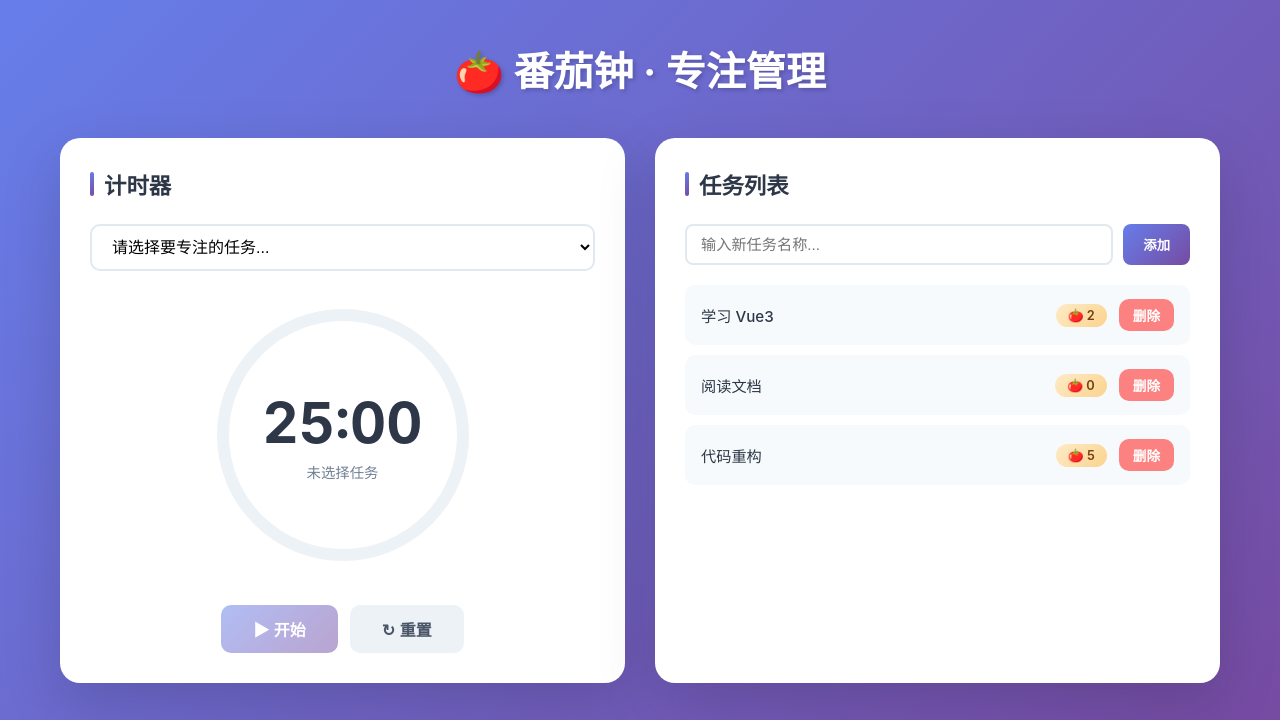
App.vue › 计时器控制 › 点击暂停后按钮文字变为「继续」
Step 1. Select "学习 Vue3（已完成 2 个番茄）" in the dropdown with class "task-select" → (342, 248), box [90, 224, 595, 271]
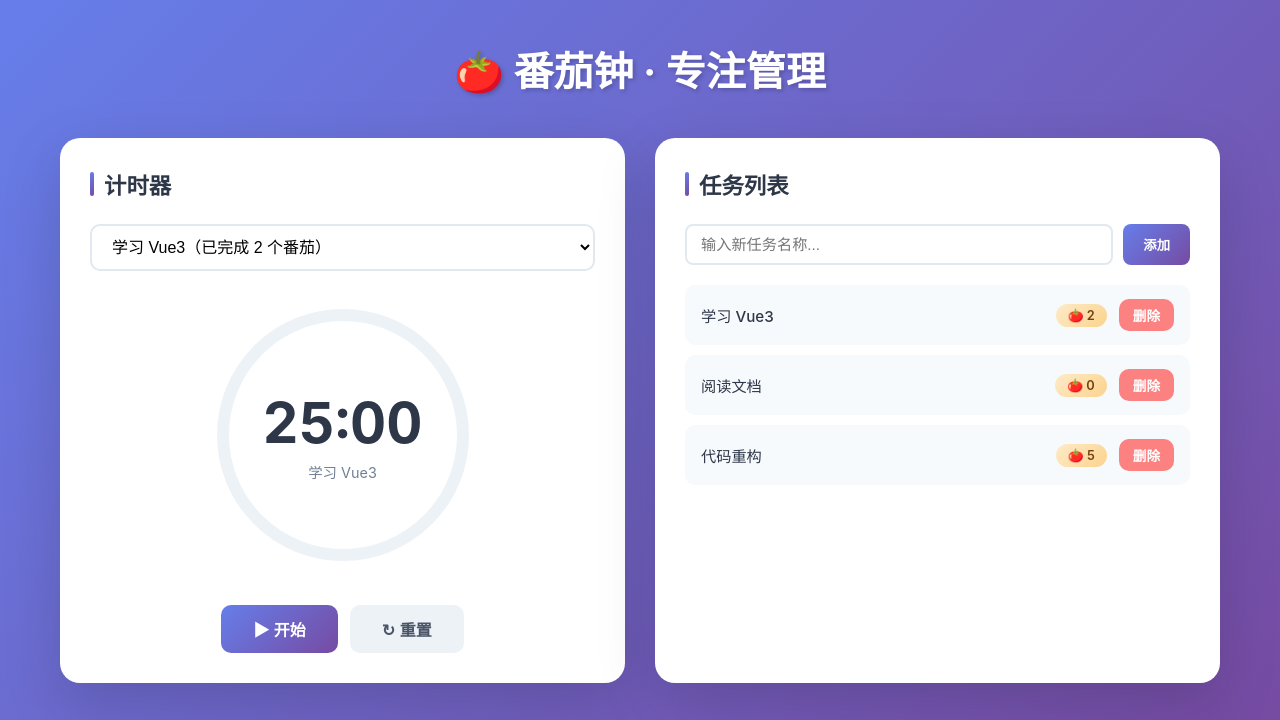
Step 2. Click the button "▶ 开始" → (280, 629), box [221, 605, 338, 653]
Wait 2000 ms
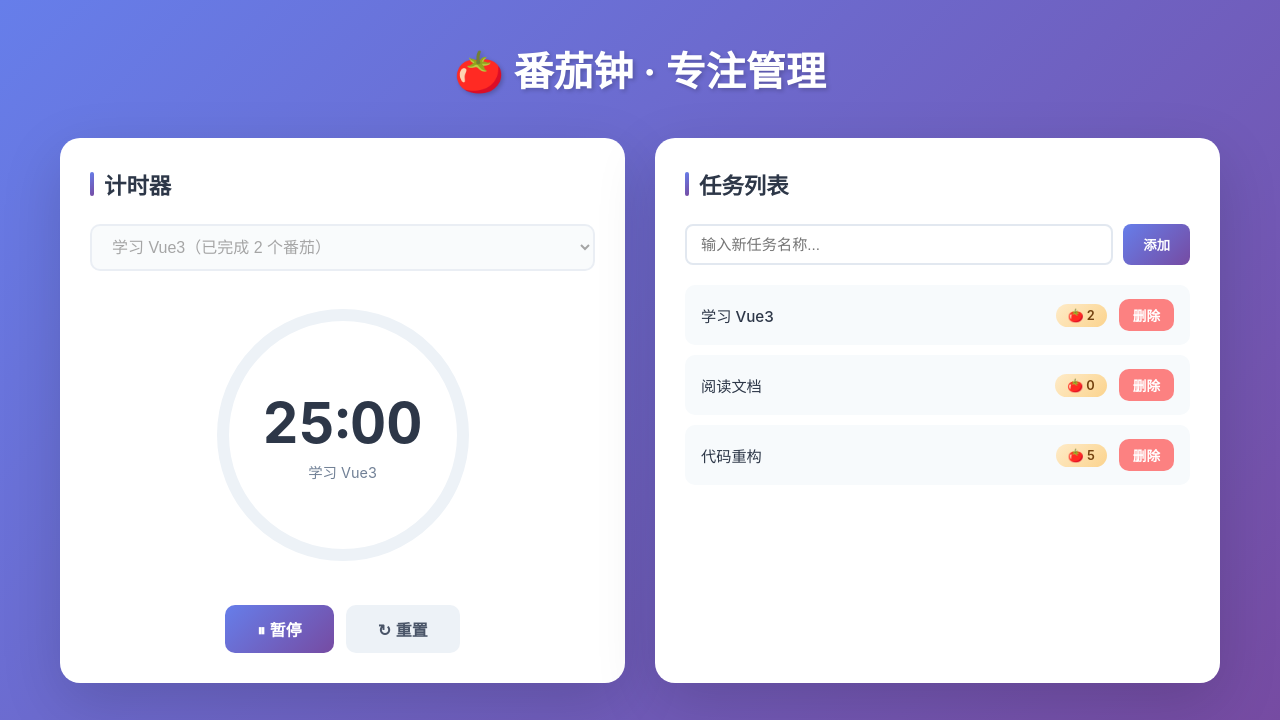
Step 3. Click the button "⏸ 暂停" → (280, 629), box [225, 605, 334, 653]
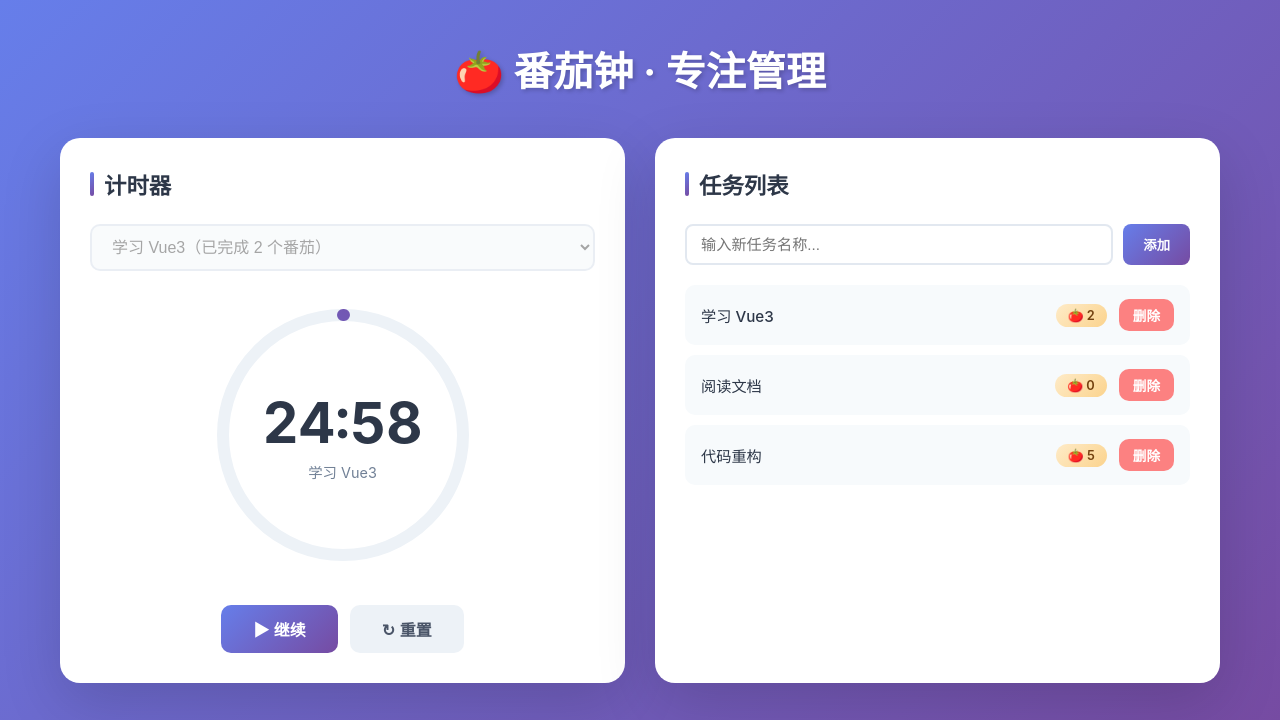
Check: the button "▶ 继续" is shown, box [221, 605, 338, 653]
